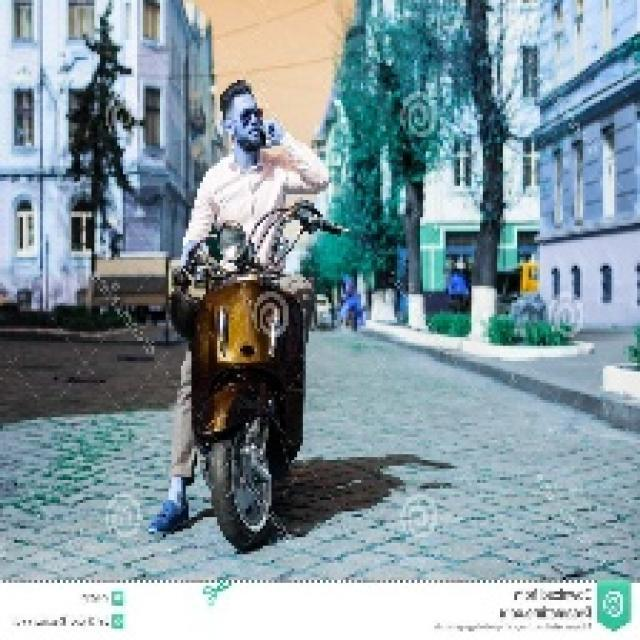bike: (180, 248, 322, 549)
